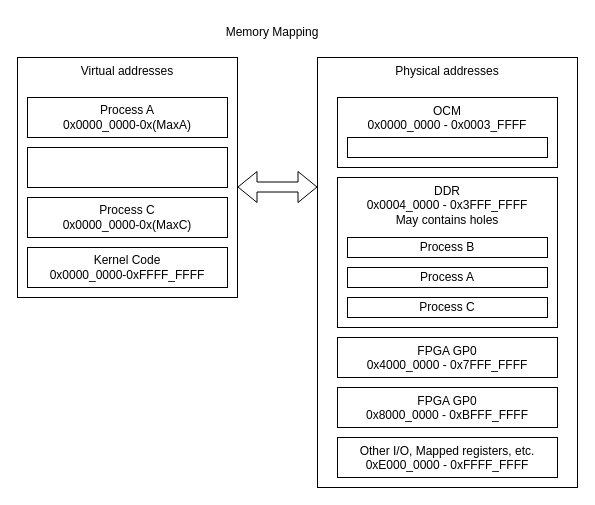
Image size: 595x505. Some labels were removed from this diagram. The centre of each missing label's shape, as x and y in pixels:
Kernel Code: point (447, 147)
Process B 0x0000_0000-0x(MaxB): point (127, 167)
